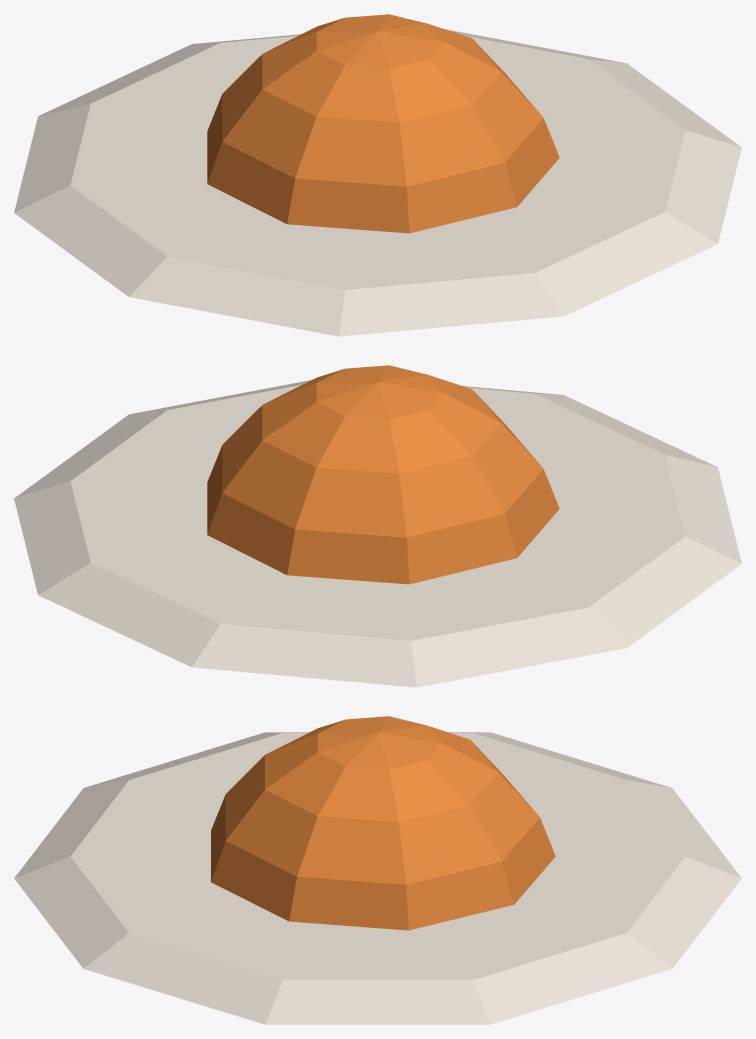
Rendered from fried egg.02.fbx.
The picture shows the model from 3 angles, top to bottom: view 1: azimuth 30°, elevation 25°; view 2: azimuth 150°, elevation 25°; view 3: azimuth 270°, elevation 25°; orthographic projection. The views are drawn at different scales.
Visible parts, largest first — view 1: fried egg.02; view 2: fried egg.02; view 3: fried egg.02.
Part boxes in pixels (bbox=[...]): fried egg.02: bbox=[14, 14, 741, 336]; fried egg.02: bbox=[14, 365, 741, 687]; fried egg.02: bbox=[14, 716, 741, 1024].
Bounding box in the file's own units: 123 × 28.69 × 130.
